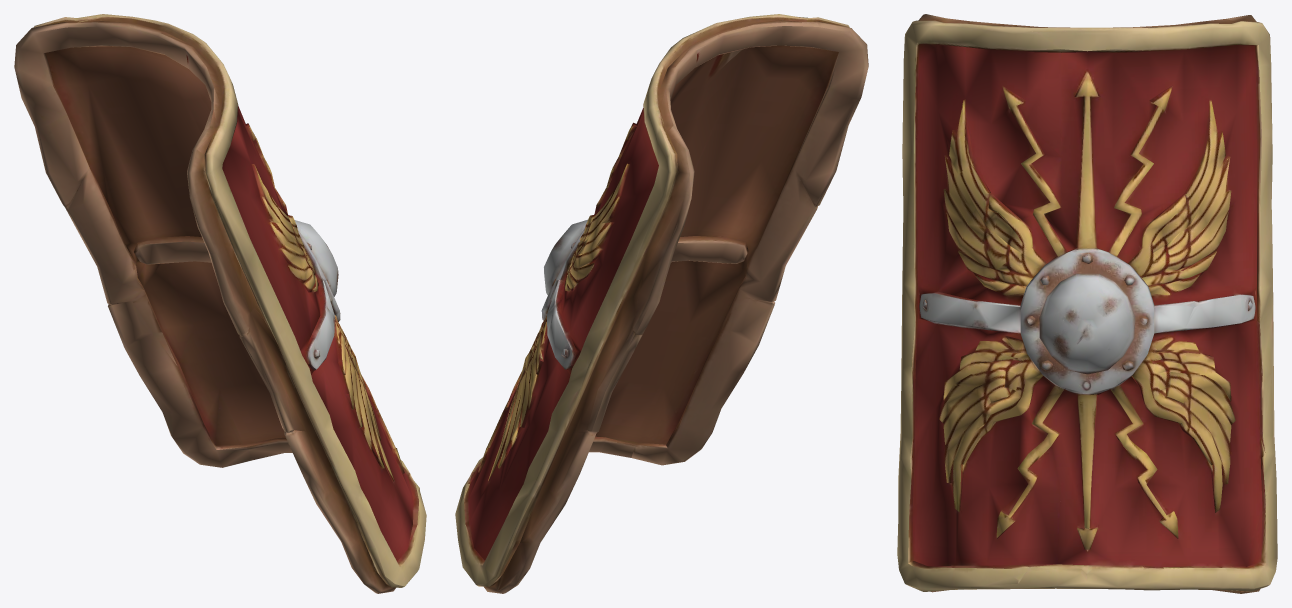
The model's file is legion_scutum.glb.
3 views of the same model, side by side, from view 1: azimuth 30°, elevation 25°; view 2: azimuth 150°, elevation 25°; view 3: azimuth 270°, elevation 25° (orthographic).
Parts seen in each view (by area): view 1: model; view 2: model; view 3: model.
Boxes of the visible parts, box(x1,y1,x2,y2) form: model: box(14, 14, 426, 593); model: box(455, 14, 868, 593); model: box(897, 14, 1277, 593).
Size of the model in its own units: 0.5934 by 1 by 0.6744.
1 material, 1 textured.
